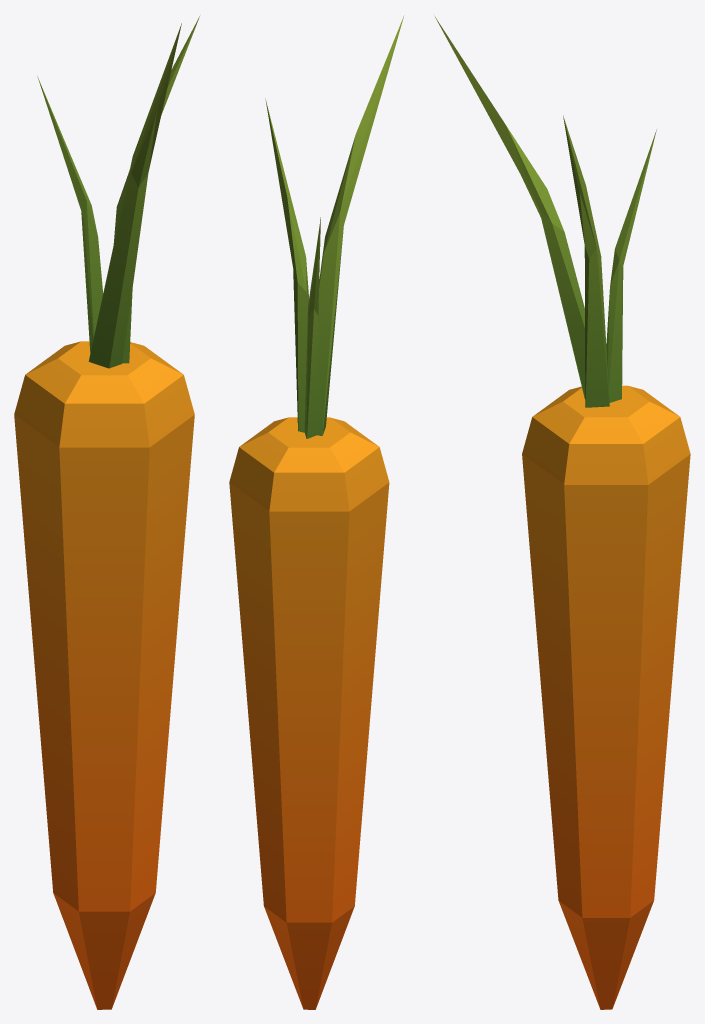
Rendered from Carrot.fbx.
3 views of the same model, side by side, from view 1: azimuth 30°, elevation 25°; view 2: azimuth 150°, elevation 25°; view 3: azimuth 270°, elevation 25° (orthographic). The views are drawn at different scales.
Parts seen in each view (by area): view 1: Carrot; view 2: Carrot; view 3: Carrot.
Part boxes in pixels (box(x1,y1,x2,y2)): Carrot: box(14, 16, 199, 1009); Carrot: box(229, 15, 404, 1009); Carrot: box(435, 17, 690, 1009).
Bounding box in the file's own units: 0.0961 × 0.6897 × 0.1629.
